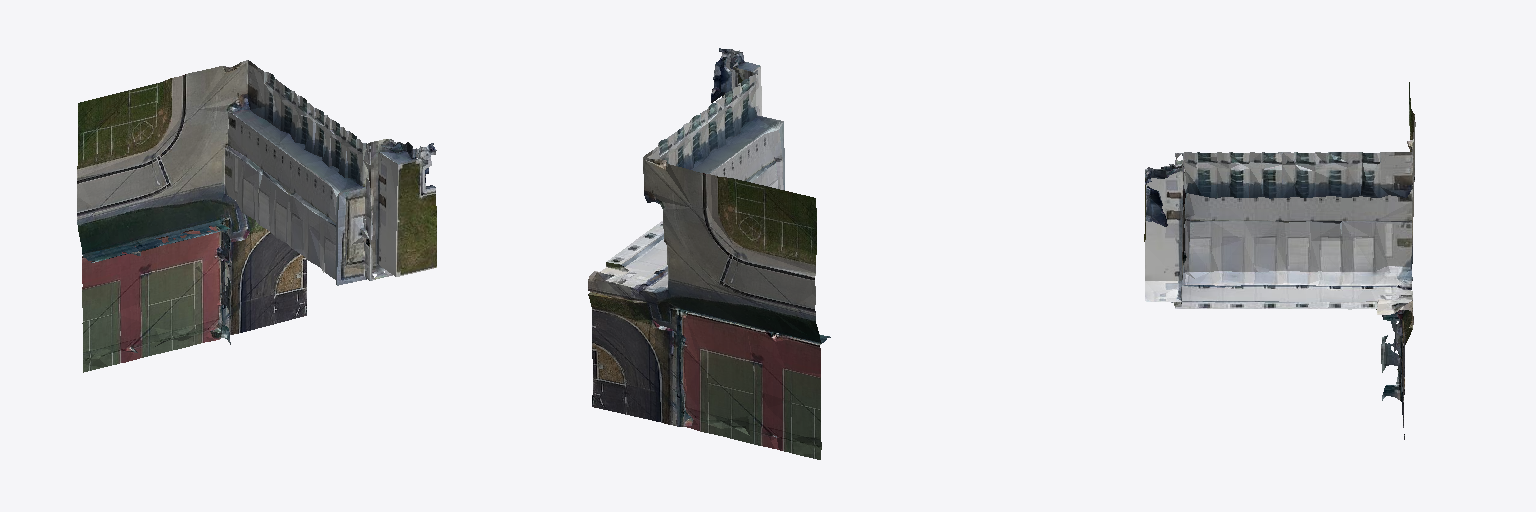
The picture shows the model from 3 angles: view 1: azimuth 30°, elevation 25°; view 2: azimuth 150°, elevation 25°; view 3: azimuth 270°, elevation 25°; orthographic projection.
Visible parts, largest first — view 1: obj_0; view 2: obj_0; view 3: obj_0.
Part boxes in pixels (x1,y1,x2,y2): obj_0: (77,60,436,372); obj_0: (588,48,830,459); obj_0: (1144,82,1415,439).
Bounding box in the file's own units: 40.15 × 45.06 × 41.61.
1 materials, 1 textured.